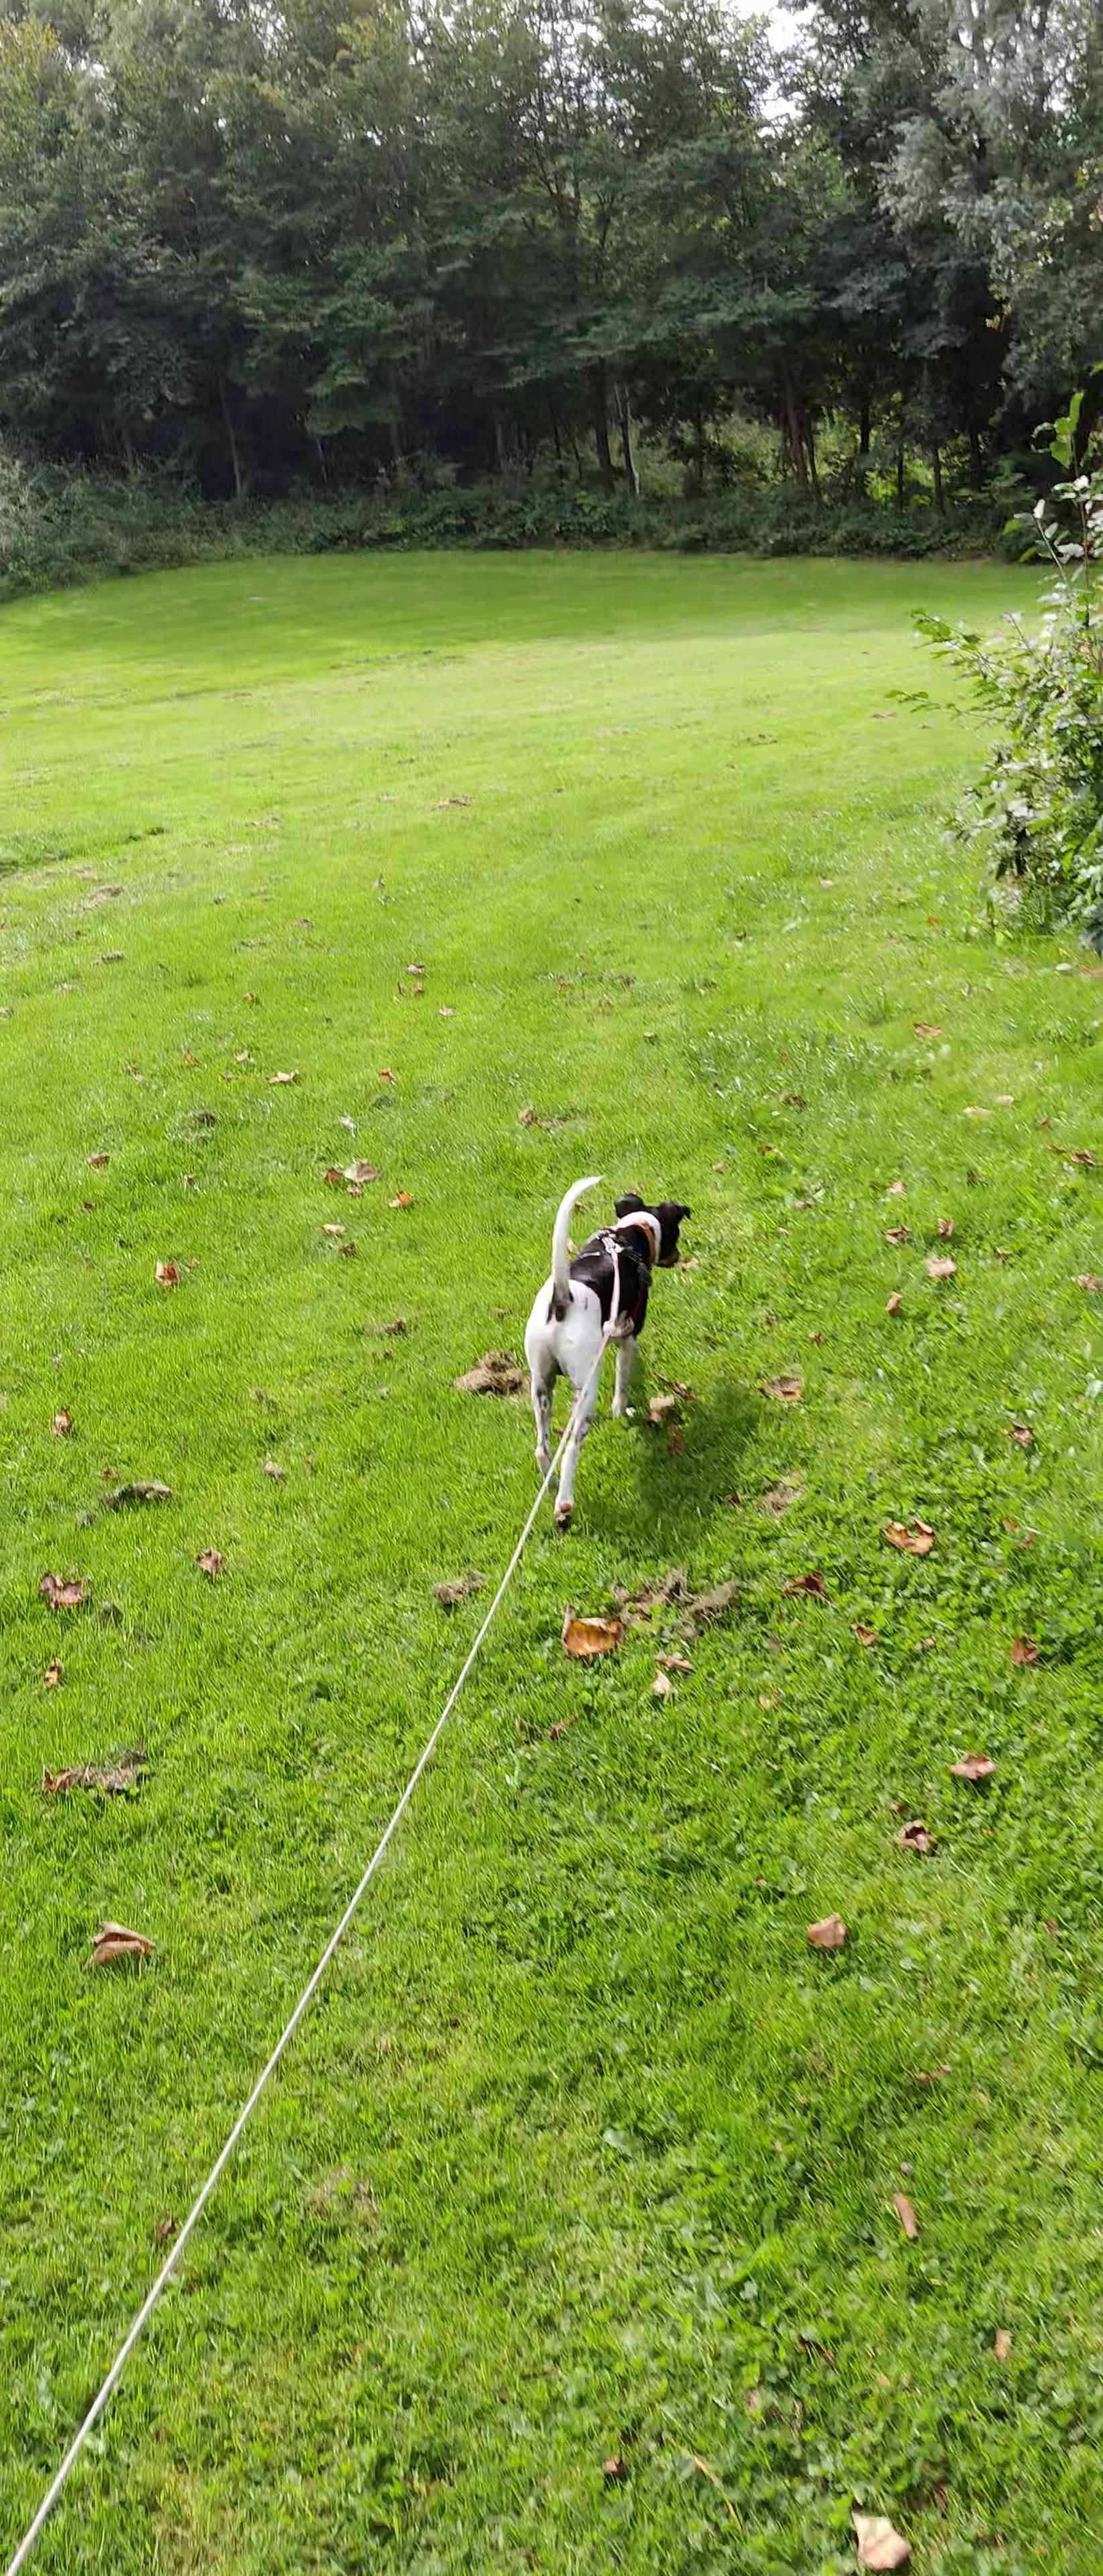Dog: (505, 1160, 710, 1533)
